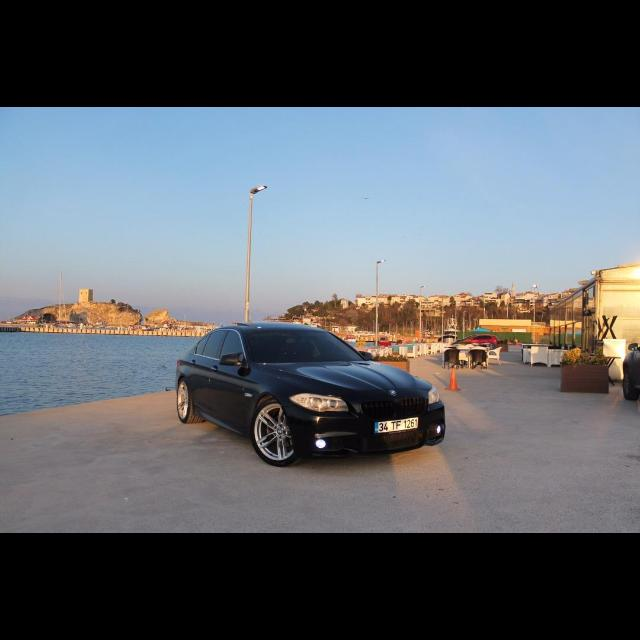Plaka: (375, 417, 417, 433)
